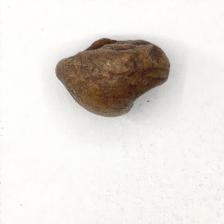NG: (54, 39, 170, 117)
